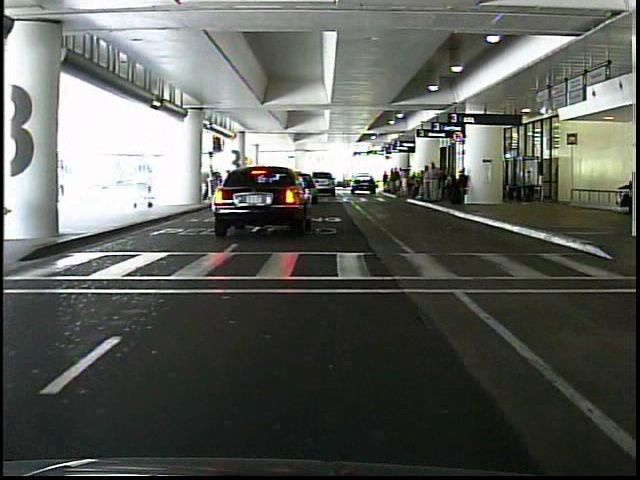person: (424, 157, 445, 209)
